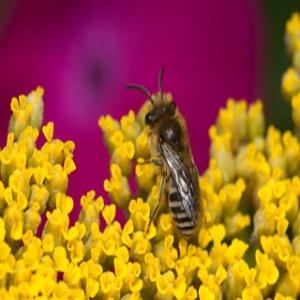bee: (128, 65, 209, 245)
